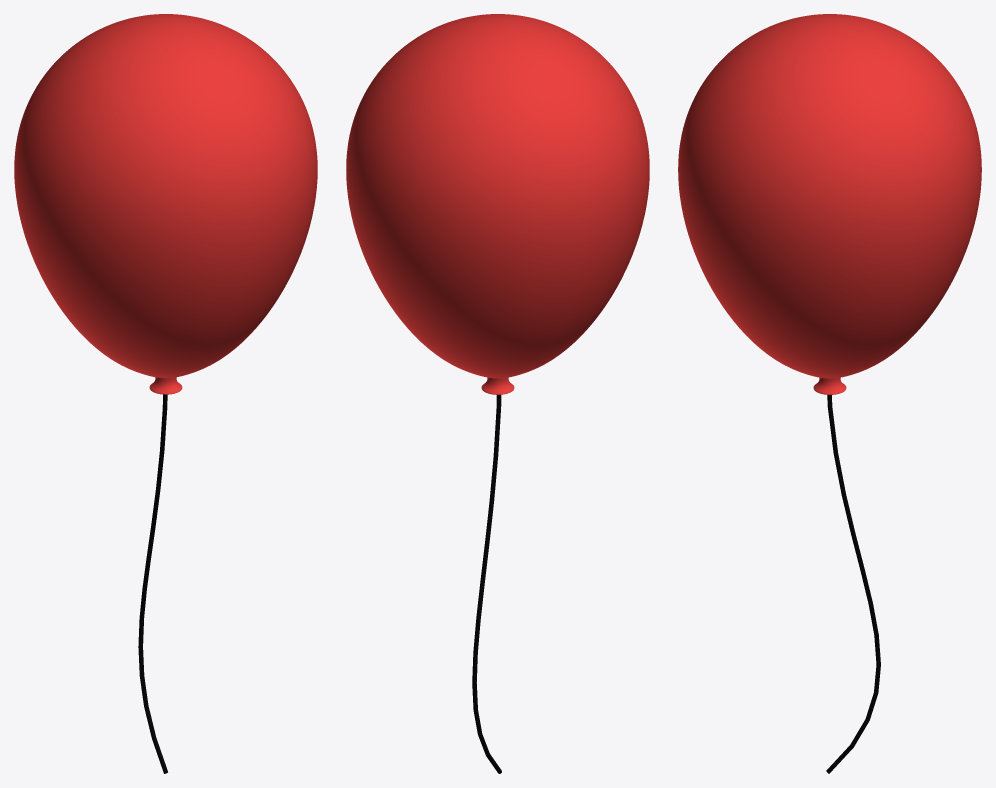
The model's file is festival3.glb.
3 views of the same model, side by side, from view 1: azimuth 30°, elevation 25°; view 2: azimuth 150°, elevation 25°; view 3: azimuth 270°, elevation 25° (orthographic).
Parts seen in each view (by area): view 1: balloon, BézierCurve; view 2: balloon, BézierCurve; view 3: balloon, BézierCurve.
Boxes of the visible parts, x1,y1,x2,y2 form: balloon: (14,14,317,394); BézierCurve: (138,394,167,773); balloon: (346,14,649,394); BézierCurve: (472,394,501,773); balloon: (678,14,981,394); BézierCurve: (826,395,880,773).
Bounding box in the file's own units: 1.15 × 3.12 × 1.15.
